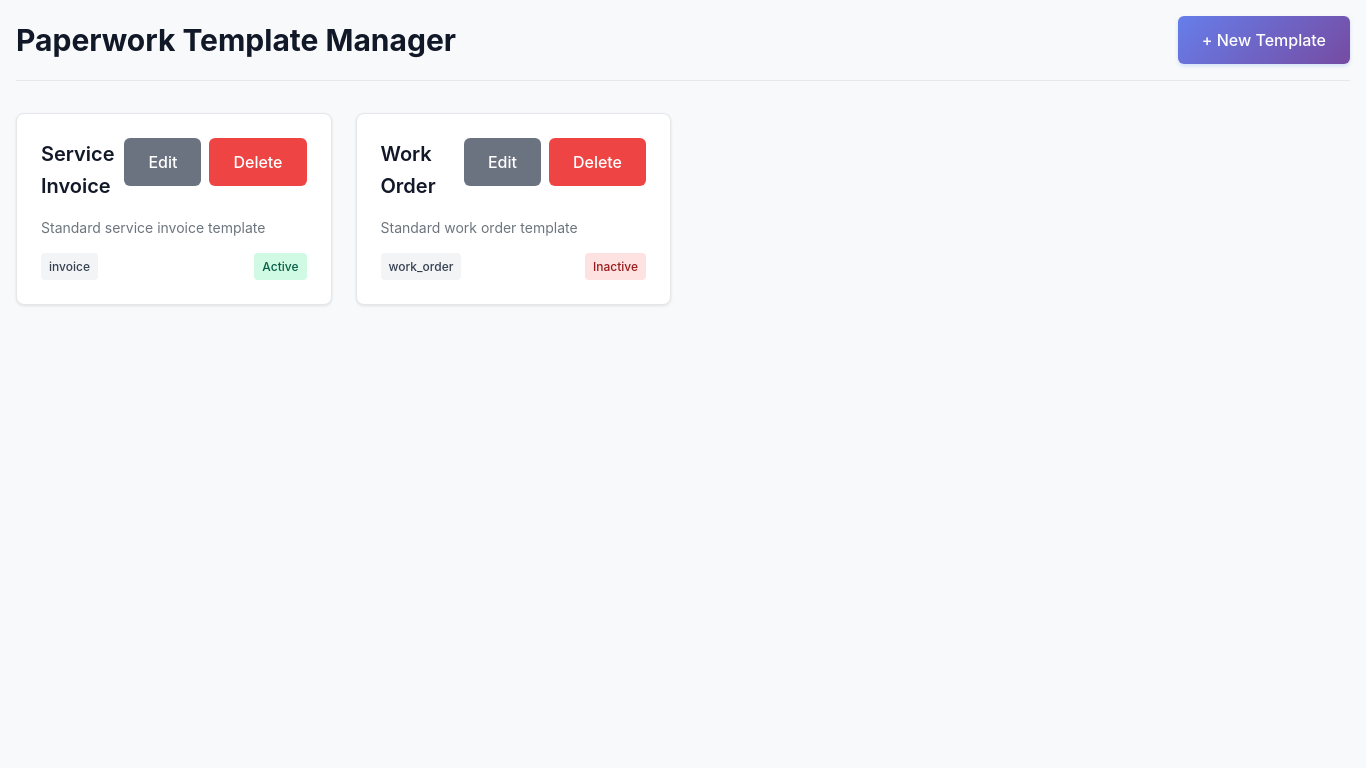
Test: PaperworkTemplateManager Component - REQ-203.5 › Template Editing › opens edit mode when edit button is clicked
Expected: the heading "Service Invoice" is shown, [41,138,124,202]
Click the 1st button "Edit" at point(163, 162), box [124,138,201,186]
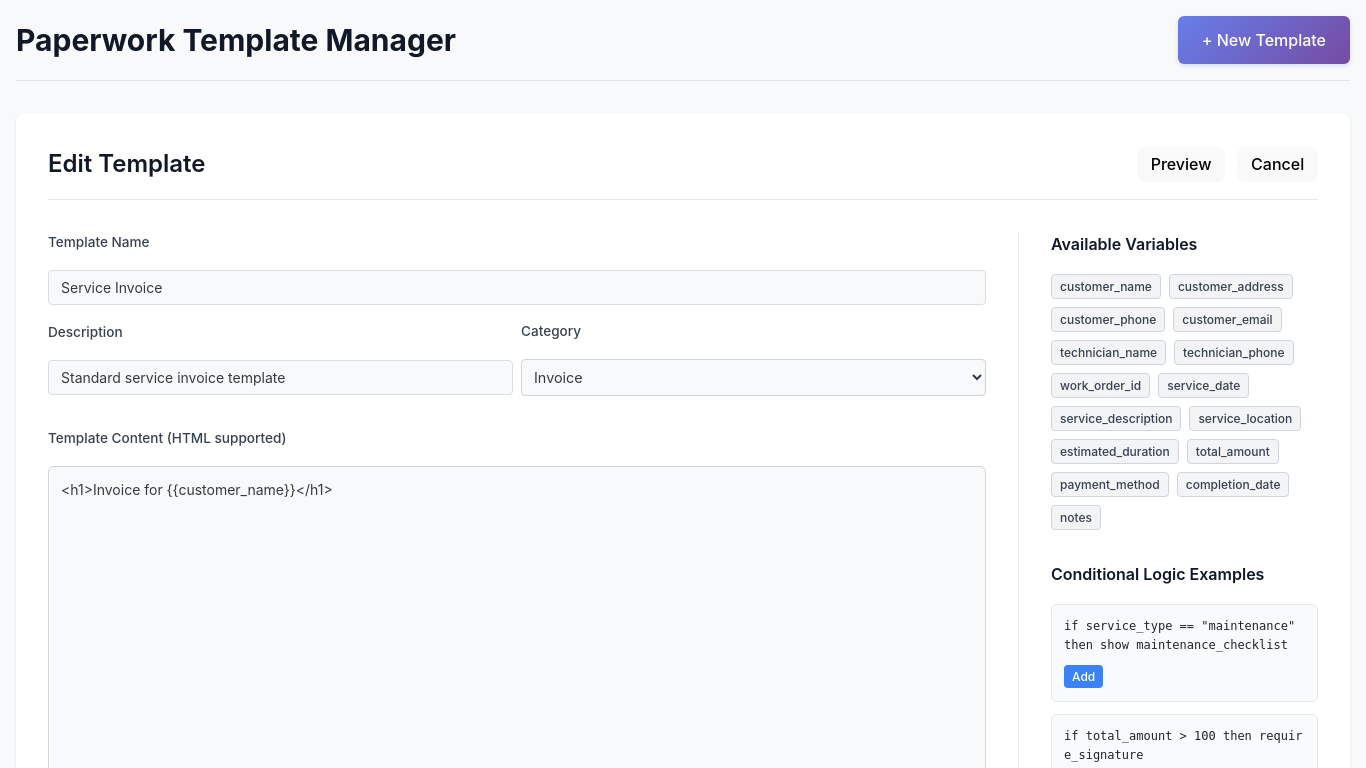
Expected: the heading "Edit Template" is shown, [48,145,206,183]
Expected: the field showing "Service Invoice" below "Template Name" is shown, [48,270,986,305]
Expected: the field showing "Standard service invoice template" below "Category" is shown, [48,360,513,395]
